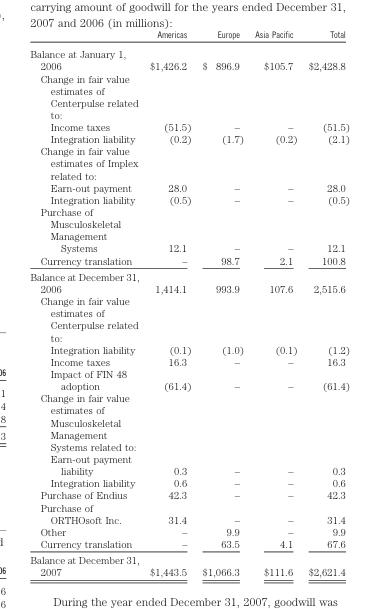table: (29, 28, 349, 577)
table column: (29, 28, 143, 577), (248, 28, 302, 577), (143, 28, 196, 577), (196, 28, 248, 577), (302, 28, 349, 577)
table column header: (29, 28, 349, 43)
table projected row header: (29, 391, 349, 452), (29, 71, 349, 120), (29, 294, 349, 343), (29, 144, 349, 181), (29, 205, 349, 229)
table row: (29, 391, 349, 452), (29, 71, 349, 120), (29, 294, 349, 343), (29, 144, 349, 181), (29, 43, 349, 71), (29, 268, 349, 294), (29, 551, 349, 577), (29, 500, 349, 525), (29, 205, 349, 229), (29, 229, 349, 253), (29, 367, 349, 391), (29, 452, 349, 476), (29, 28, 349, 43), (29, 253, 349, 268), (29, 537, 349, 551), (29, 120, 349, 132), (29, 132, 349, 144), (29, 181, 349, 193), (29, 193, 349, 205), (29, 343, 349, 355), (29, 355, 349, 367), (29, 476, 349, 488), (29, 488, 349, 500), (29, 525, 349, 537)
